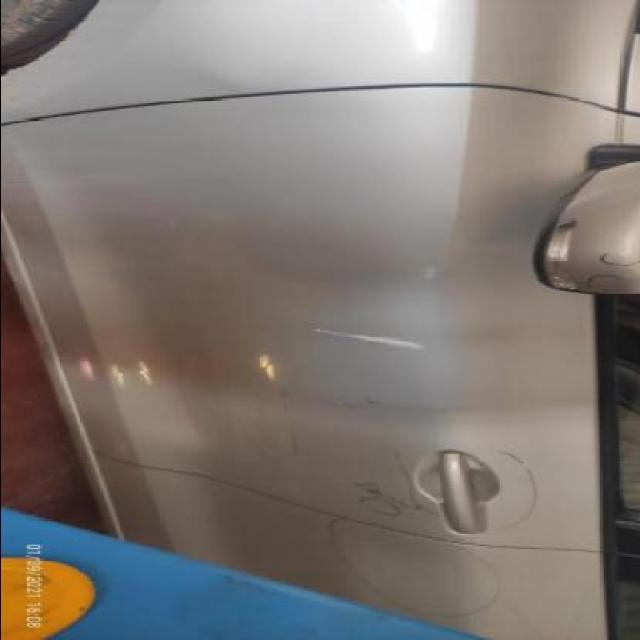doorouter-dent: (55, 148, 593, 472)
